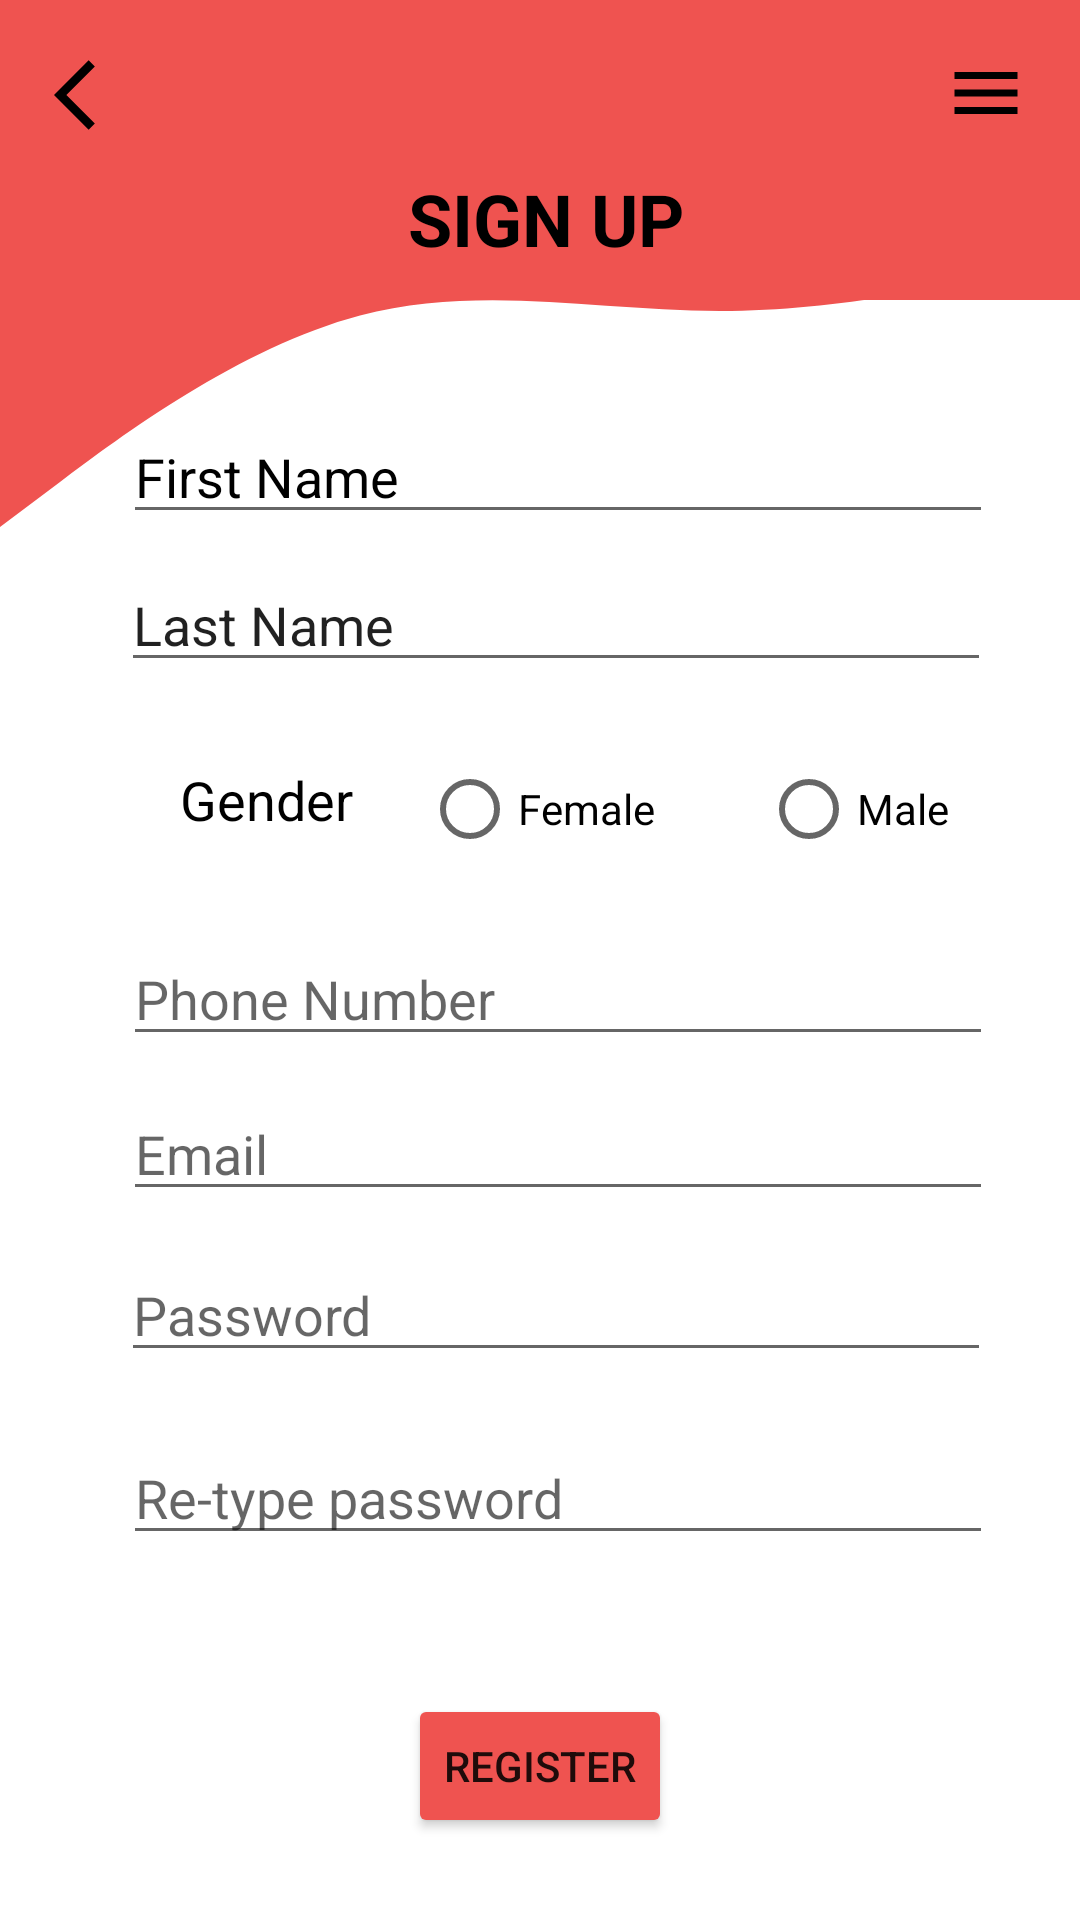

Where icons sit on this 1080px x 1920px app screen, as (x1, y1, x2, y2):
arrowback: (54, 60, 95, 130)
menu: (954, 72, 1018, 114)
